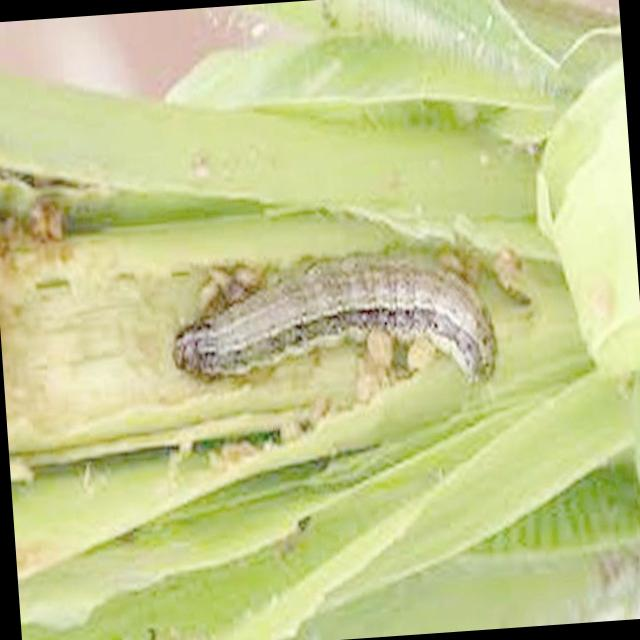pest: (193, 263, 509, 384)
